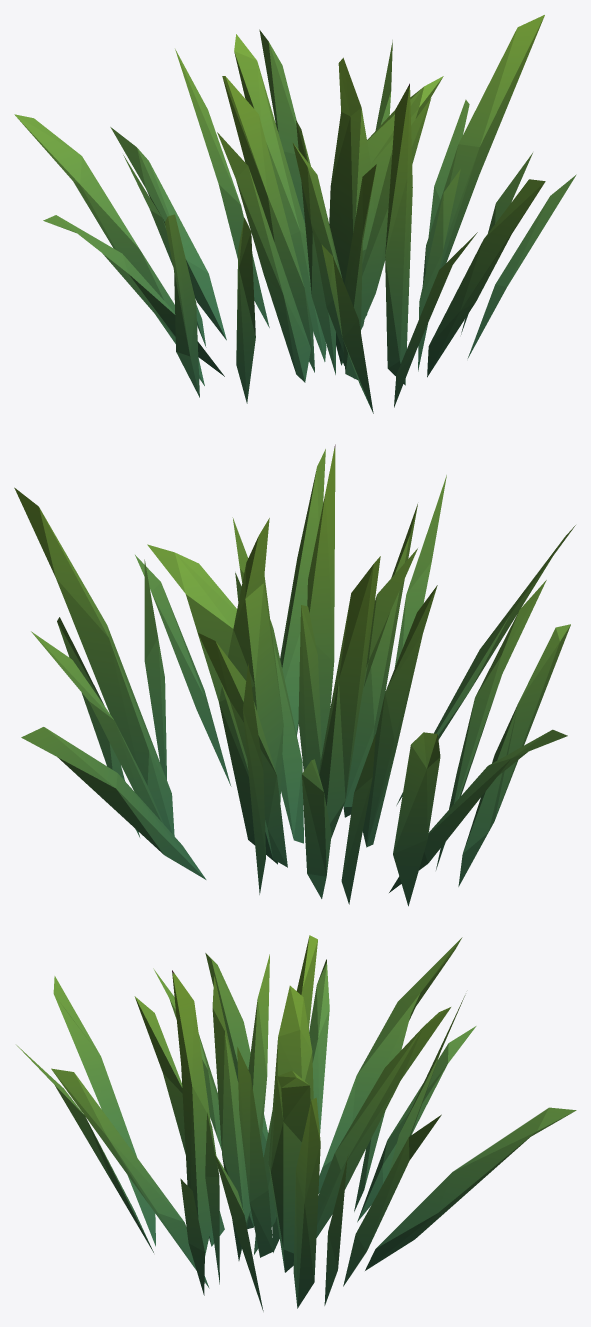
The model's file is ZLP_Grass_A_3.FBX.
3 renders of one model, top to bottom at view 1: azimuth 30°, elevation 25°; view 2: azimuth 150°, elevation 25°; view 3: azimuth 270°, elevation 25°, orthographic. The views are drawn at different scales.
Parts seen in each view (by area): view 1: ZLP_Grass_A_3; view 2: ZLP_Grass_A_3; view 3: ZLP_Grass_A_3.
Part boxes in pixels (x1,y1,x2,y2): ZLP_Grass_A_3: [14, 15, 576, 413]; ZLP_Grass_A_3: [14, 444, 575, 906]; ZLP_Grass_A_3: [16, 935, 576, 1311].
Size of the model in its own units: 131 by 82.37 by 137.
